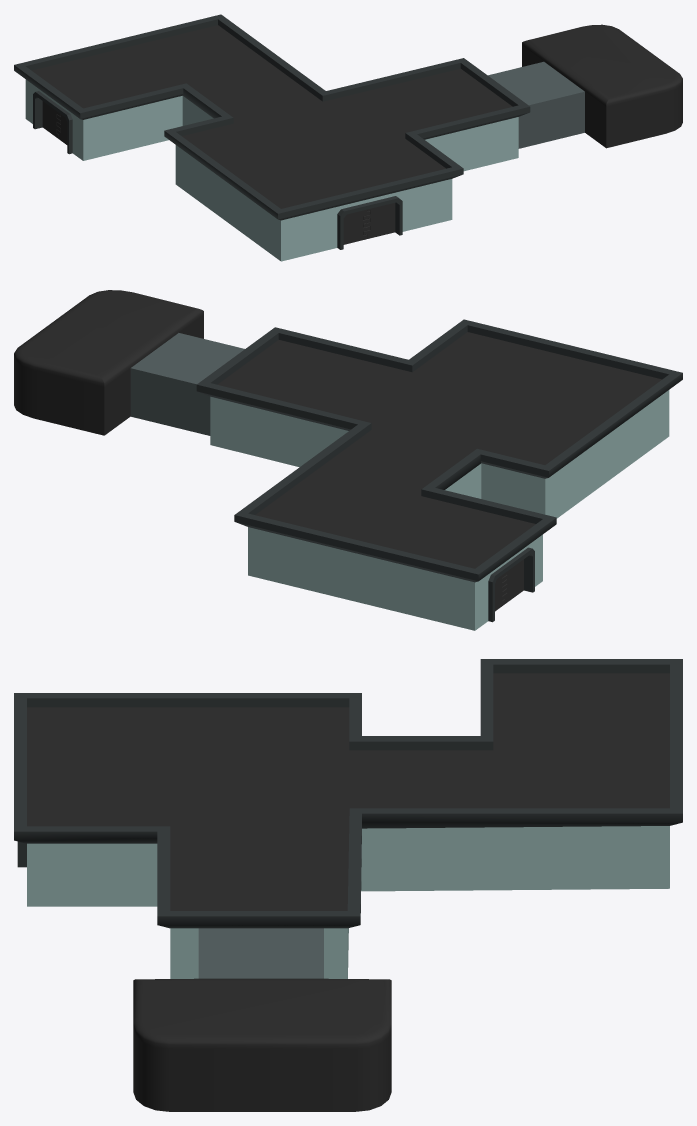
File: OfficeAndAdmin.fbx
3 views of the same model, one above another, from view 1: azimuth 30°, elevation 25°; view 2: azimuth 150°, elevation 25°; view 3: azimuth 270°, elevation 25° (orthographic). The views are drawn at different scales.
Parts seen in each view (by area): view 1: Office/Admin, Office/Admin Inner Mesh, Office RightDoor, Office LeftDoor, Office LeftDoor.001; view 2: Office/Admin, Office/Admin Inner Mesh, Office RightDoor.001; view 3: Office/Admin, Office/Admin Inner Mesh.
Boxes of the visible parts, left/top/right/bottom form: Office/Admin: left=14, top=14, right=682, bottom=261; Office/Admin Inner Mesh: left=14, top=15, right=584, bottom=260; Office RightDoor: left=363, top=203, right=395, bottom=238; Office LeftDoor: left=343, top=209, right=370, bottom=244; Office LeftDoor.001: left=42, top=101, right=60, bottom=138; Office/Admin: left=14, top=290, right=682, bottom=630; Office/Admin Inner Mesh: left=130, top=320, right=682, bottom=621; Office RightDoor.001: left=502, top=559, right=523, bottom=603; Office/Admin: left=14, top=659, right=682, bottom=1111; Office/Admin Inner Mesh: left=14, top=659, right=682, bottom=978.
Bounding box in the file's own units: 13598 × 1372 × 10328.
